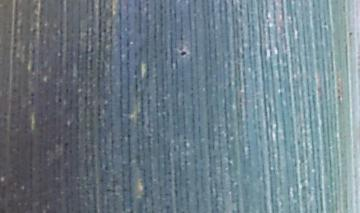tarspot: (178, 48, 189, 59)
